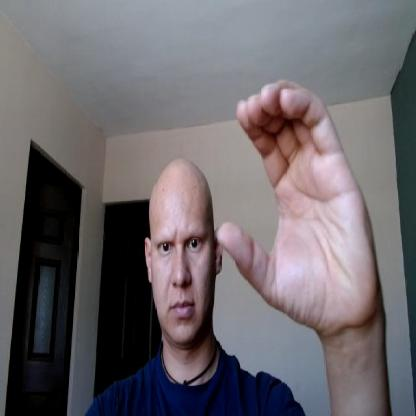C: (216, 78, 377, 331)
